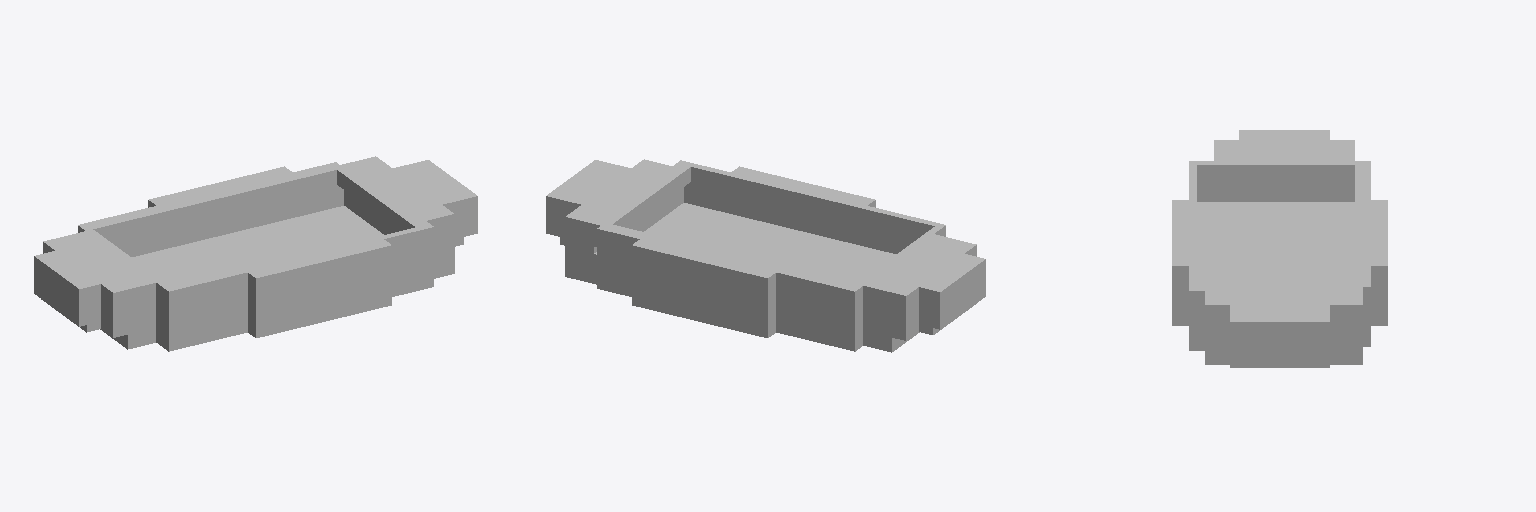
Rendered from boat.obj.
3 views of the same model, side by side, from view 1: azimuth 30°, elevation 25°; view 2: azimuth 150°, elevation 25°; view 3: azimuth 270°, elevation 25° (orthographic).
Bounding box in the file's own units: 55 × 8 × 26.